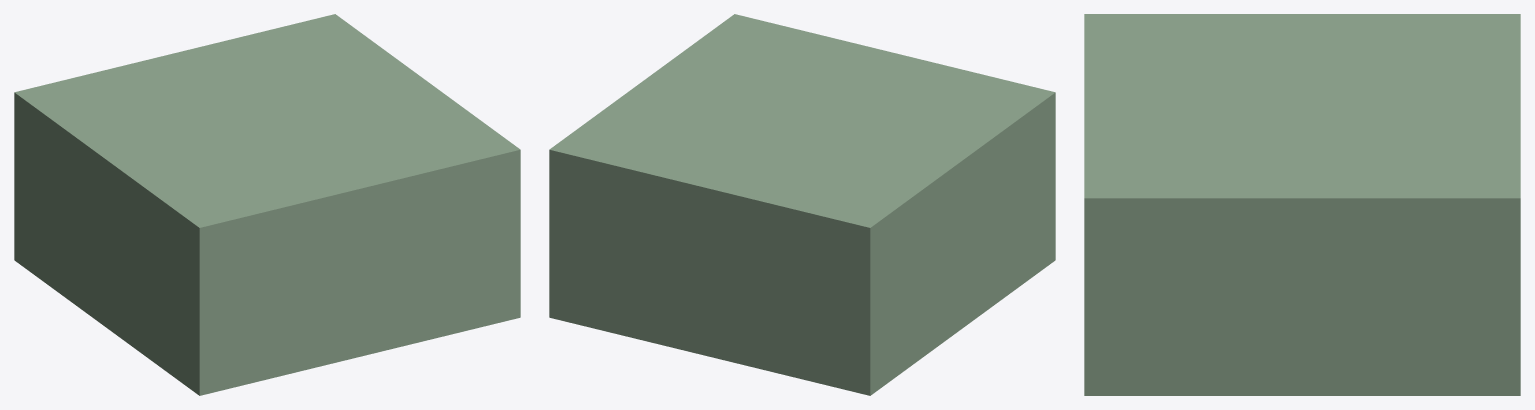
The model's file is Climb_Half.glb.
The picture shows the model from 3 angles, left to right: view 1: azimuth 30°, elevation 25°; view 2: azimuth 150°, elevation 25°; view 3: azimuth 270°, elevation 25°; orthographic projection. The views are drawn at different scales.
Visible parts, largest first — view 1: Climb_Half_body; view 2: Climb_Half_body; view 3: Climb_Half_body.
Part boxes in pixels (x1,y1,x2,y2): Climb_Half_body: (14,14,520,395); Climb_Half_body: (549,14,1055,395); Climb_Half_body: (1084,14,1520,395).
Size of the model in its own units: 1 by 0.5 by 1.
